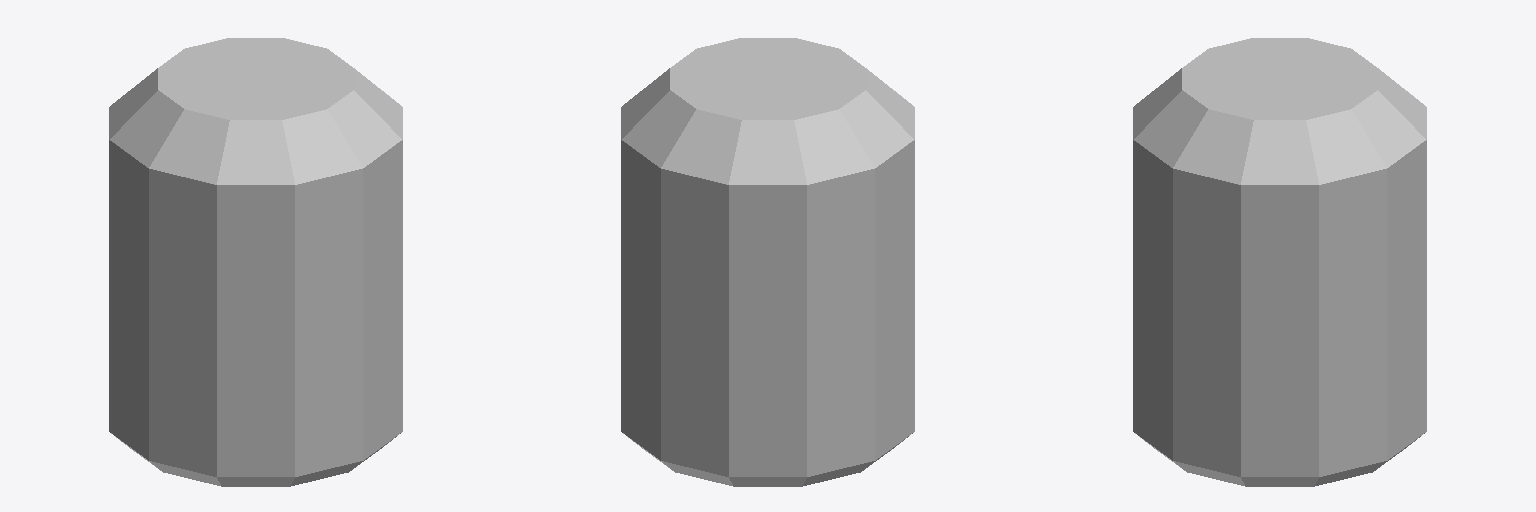
The model's file is stepping_stumps_A_yellow.obj.
3 renders of one model, left to right at view 1: azimuth 30°, elevation 25°; view 2: azimuth 150°, elevation 25°; view 3: azimuth 270°, elevation 25°, orthographic.
Visible parts, largest first — view 1: stepping_stumps_A_yellow; view 2: stepping_stumps_A_yellow; view 3: stepping_stumps_A_yellow.
Boxes of the visible parts, <box> form: stepping_stumps_A_yellow: <box>109,38,402,486</box>; stepping_stumps_A_yellow: <box>621,38,914,486</box>; stepping_stumps_A_yellow: <box>1133,38,1426,486</box>.
Bounding box in the file's own units: 0.3 × 0.4 × 0.3.